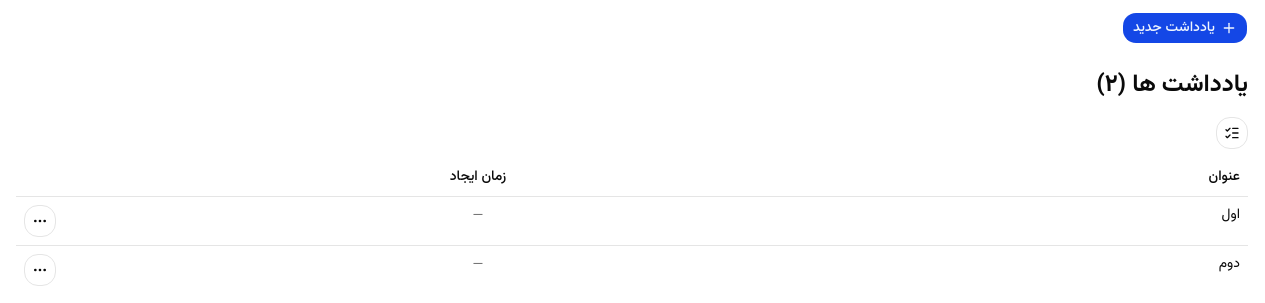
it: NotesPage select mode › adds a checkbox to every row once the mode is on
The width and height of the screenshot is (1265, 303).
Click the button named "حالت انتخاب برای یادداشت ها".
click(1232, 133)  # box 1216,117 -> 1248,149
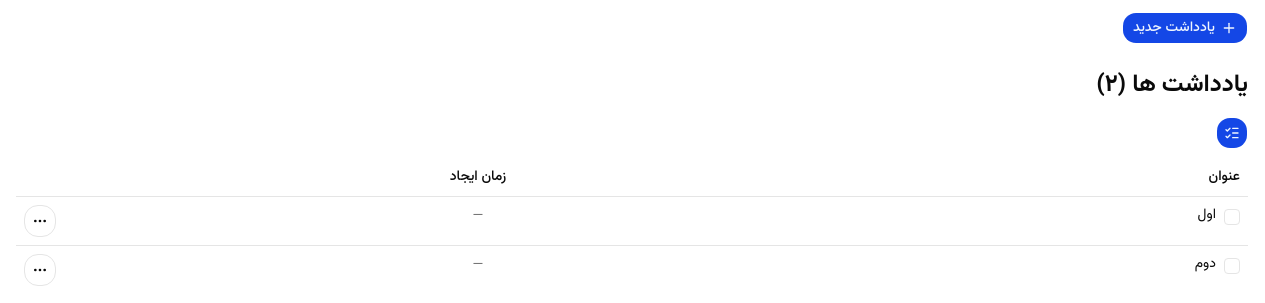
Expected: the number of checkboxes is 2, 1224,209 -> 1240,225; 1224,258 -> 1240,274
